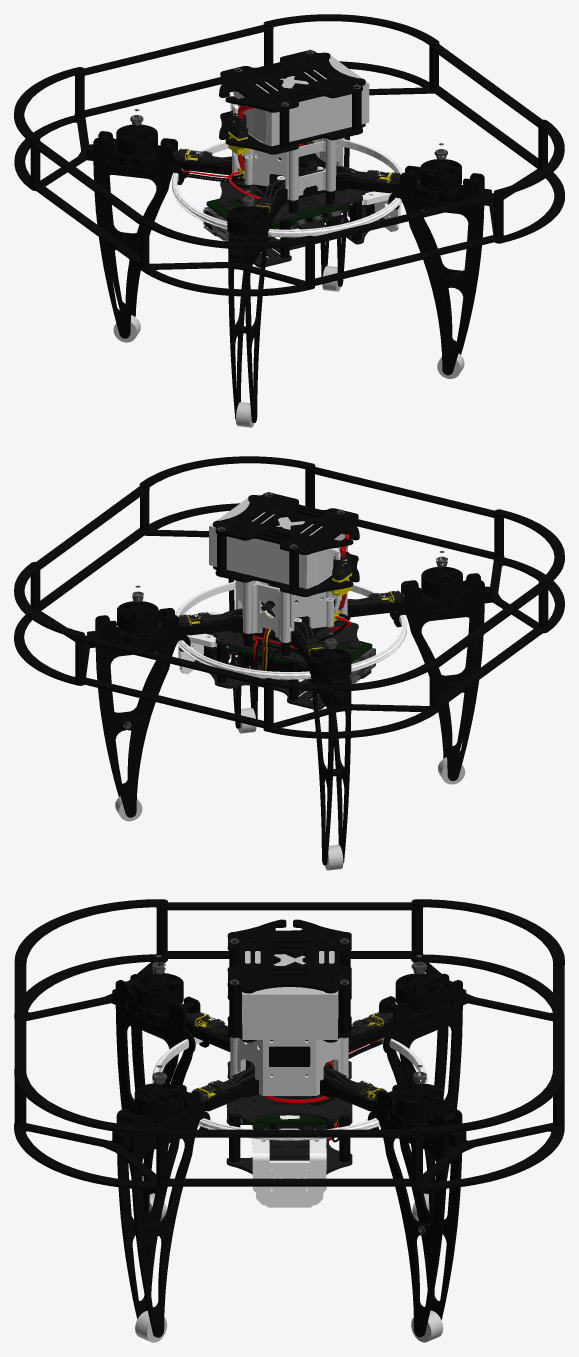
Rendered from body.dae.
3 renders of one model, top to bottom at view 1: azimuth 30°, elevation 25°; view 2: azimuth 150°, elevation 25°; view 3: azimuth 270°, elevation 25°, orthographic. The views are drawn at different scales.
Parts seen in each view (by area): view 1: mesh0; view 2: mesh0; view 3: mesh0.
Boxes of the visible parts, x1,y1,x2,y2 form: mesh0: (14,14,564,427); mesh0: (14,456,564,870); mesh0: (14,899,564,1342).
Size of the model in its own units: 0.3281 by 0.3283 by 0.2147.
